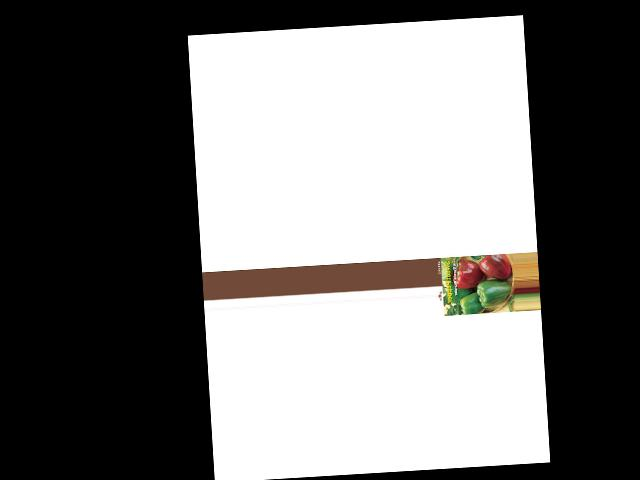bell_pepper: (457, 294, 489, 316)
